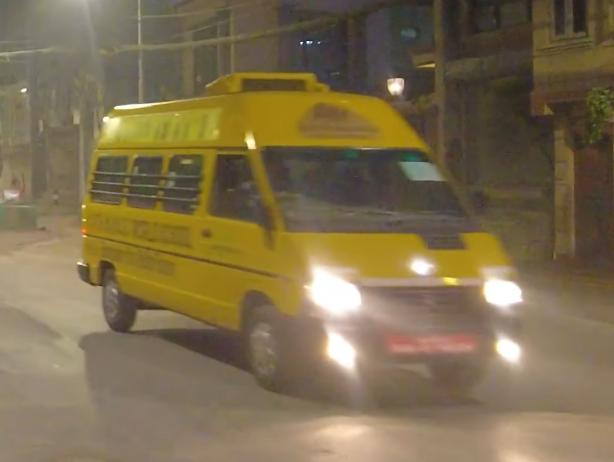school_bus: (77, 67, 537, 398)
